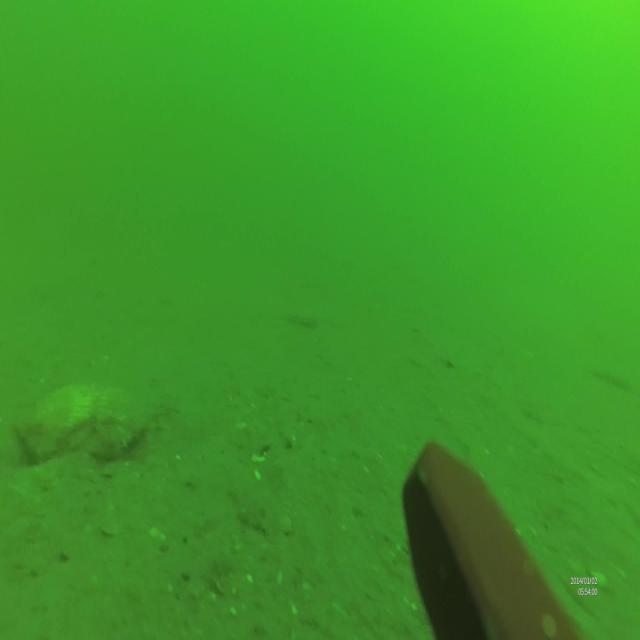scallop: (17, 382, 153, 452)
